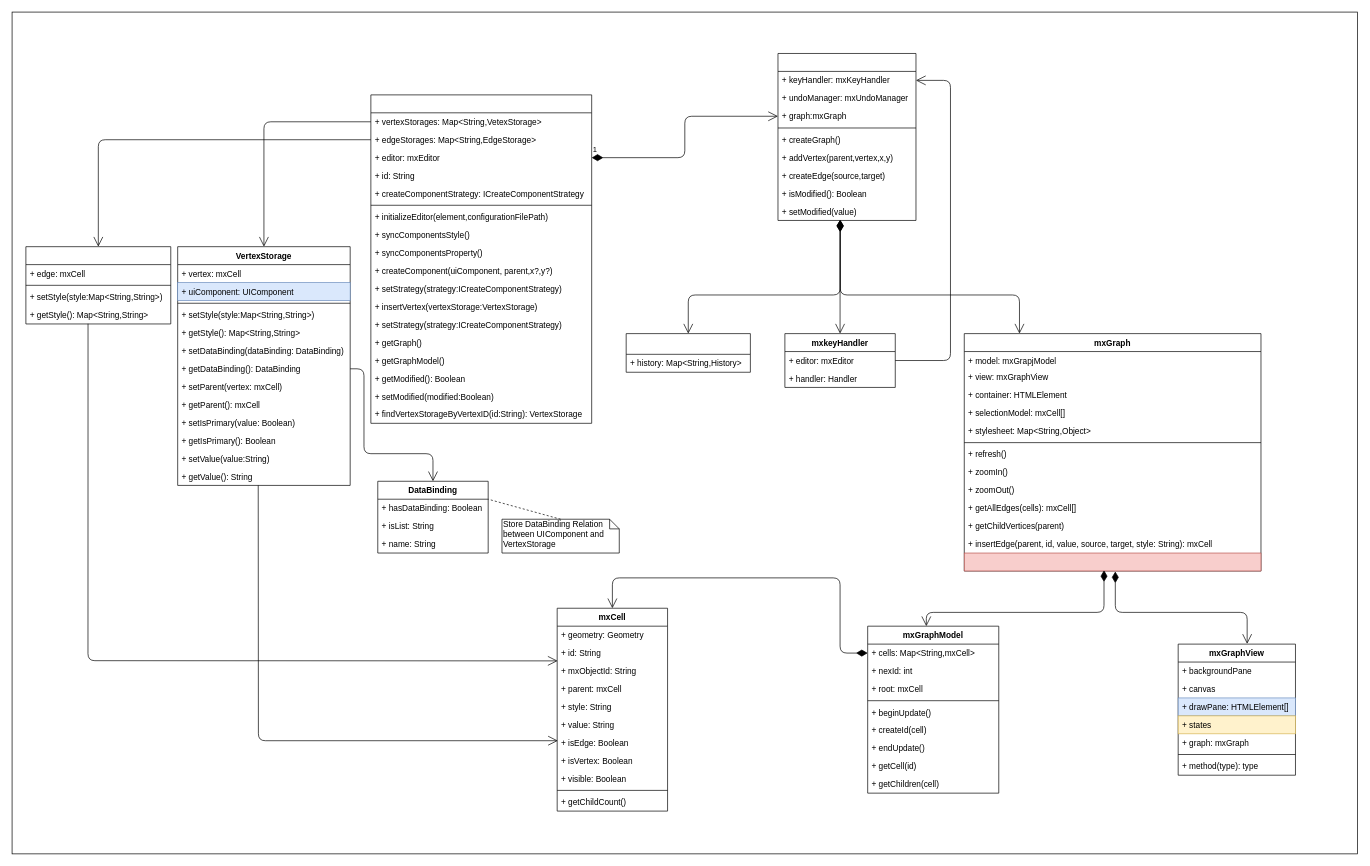
This 1370x866 diagram has some shape labels left out. The shapes that lost their labels are listed below. From the top down, each one's box as (x1, y1, x2, y2) in pixels, then its label:
(777, 53, 916, 220): mxEditor
(370, 94, 592, 423): GraphStorage
(25, 246, 171, 324): EdgeStorage
(625, 333, 750, 372): undoManager
(964, 552, 1261, 571): + insertVertex(parent, id, value, x,y,width,height,style,relative): mxCell
